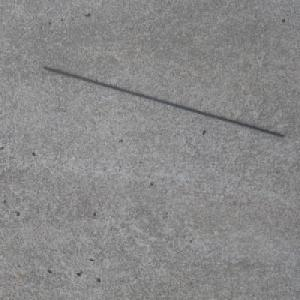LuggagePart: (41, 65, 286, 138)
